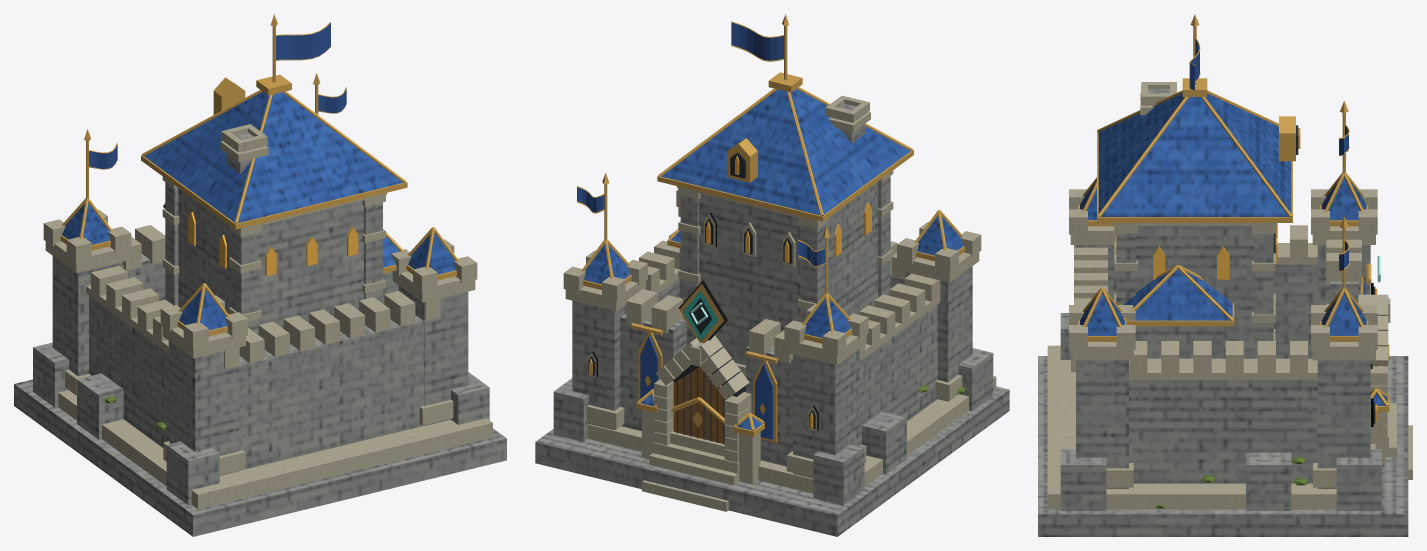
The model's file is Keep_1.fbx.
3 renders of one model, left to right at view 1: azimuth 30°, elevation 25°; view 2: azimuth 150°, elevation 25°; view 3: azimuth 270°, elevation 25°, orthographic. The views are drawn at different scales.
Parts seen in each view (by area): view 1: BuildingBody, FlagCloth_02; view 2: BuildingBody, FlagCloth_02; view 3: BuildingBody.
Part boxes in pixels (bbox=[...]): BuildingBody: bbox=[14, 14, 506, 536]; FlagCloth_02: bbox=[276, 22, 330, 60]; BuildingBody: bbox=[535, 14, 1009, 536]; FlagCloth_02: bbox=[731, 21, 784, 61]; BuildingBody: bbox=[1038, 14, 1412, 536].
Size of the model in its own units: 1 by 1.31 by 1.
Materials: 1 (1 with a texture image).
